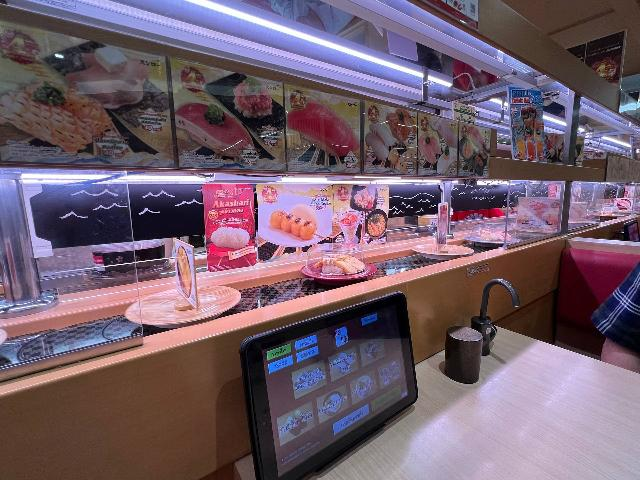janred: (312, 241, 392, 296)
